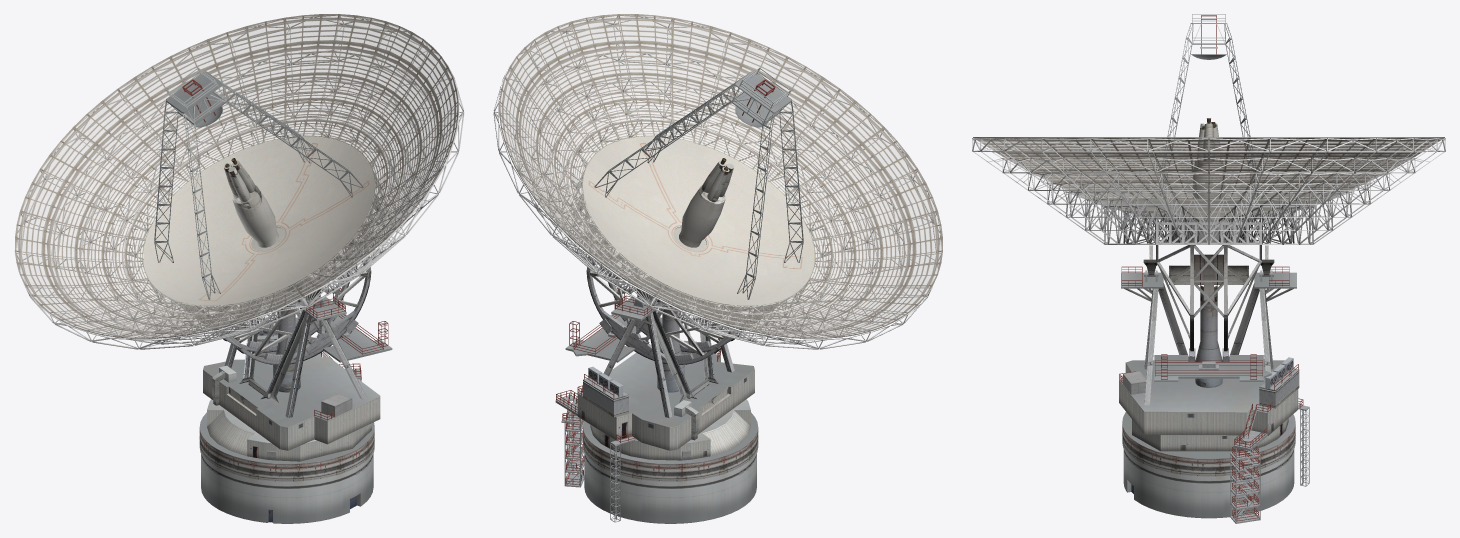
File: DSN_70M.glb
3 views of the same model, side by side, from view 1: azimuth 30°, elevation 25°; view 2: azimuth 150°, elevation 25°; view 3: azimuth 270°, elevation 25° (orthographic).
Parts seen in each view (by area): view 1: base; view 2: base; view 3: base, base.001.
Boxes of the visible parts, x1=… form: base: x1=14, y1=14, x2=464, y2=523; base: x1=493, y1=14, x2=943, y2=523; base: x1=972, y1=14, x2=1445, y2=523; base.001: x1=1168, y1=220, x2=1249, y2=242.
Bounding box in the file's own units: 64.4 × 70.57 × 70.07.
6 materials, 6 textured.
